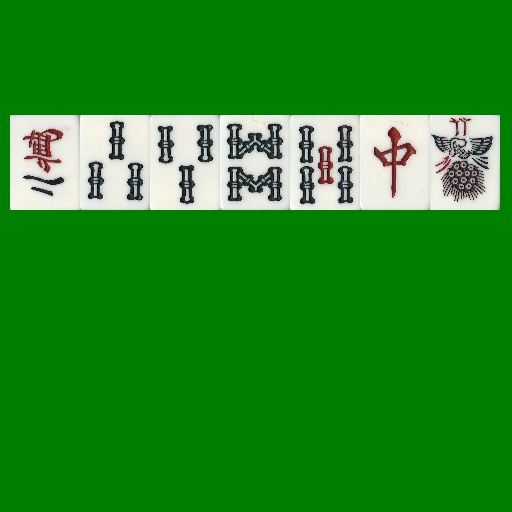1s: (430, 115, 500, 210)
2m: (10, 115, 80, 210)
3s: (80, 115, 150, 210), (150, 115, 220, 210)
5s: (290, 115, 360, 210)
8s: (220, 115, 290, 210)
tyun: (360, 115, 430, 210)
